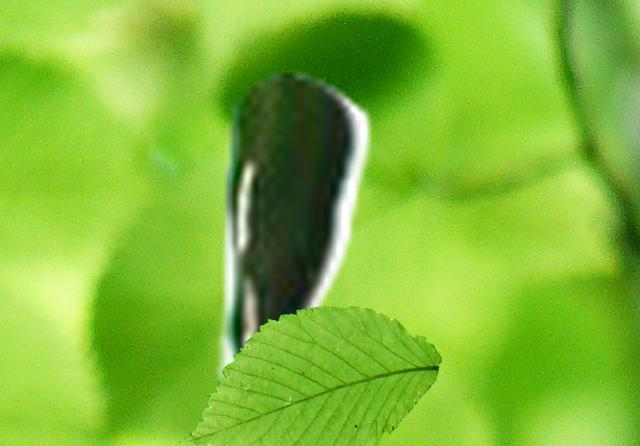green_chili: (207, 67, 374, 391)
